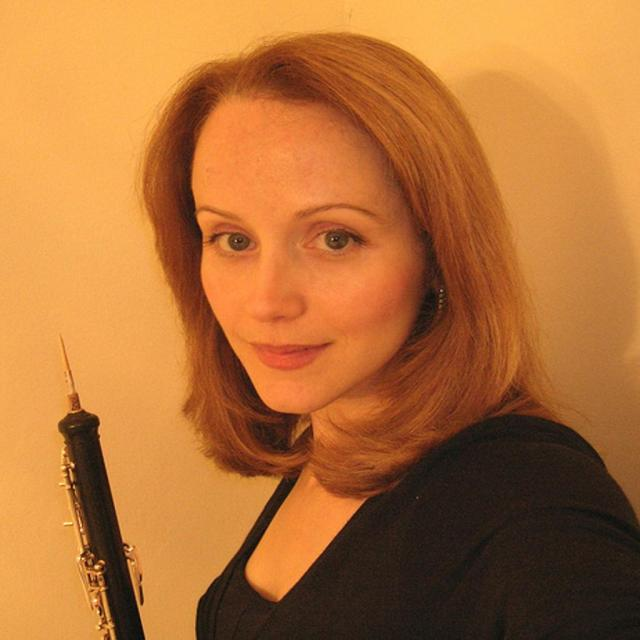Face: (173, 75, 417, 431)
